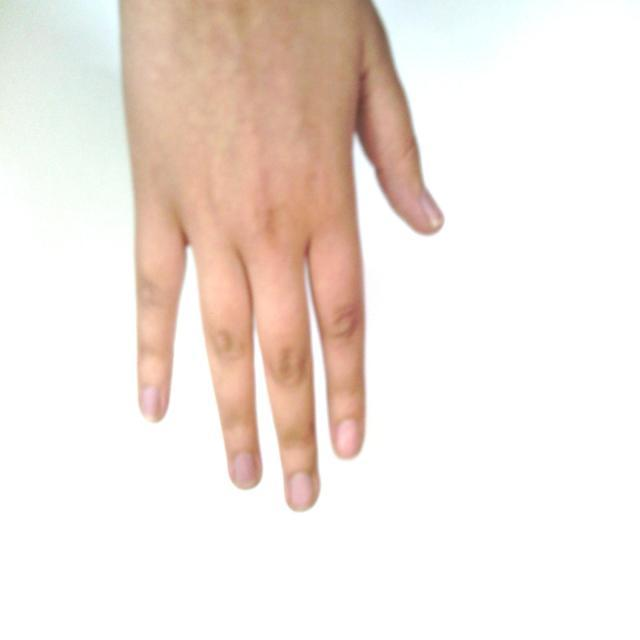Fingernail: (289, 473, 314, 510), (234, 453, 257, 488), (337, 421, 359, 457), (422, 188, 443, 222), (141, 387, 161, 421)
